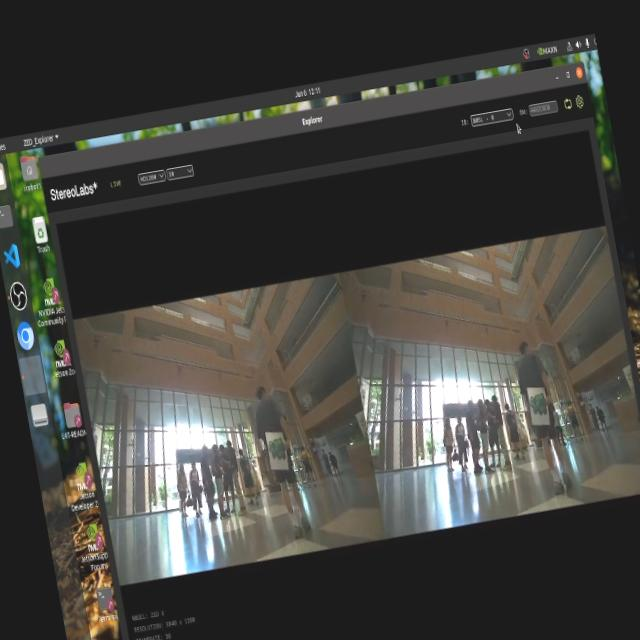green: (266, 431, 292, 466), (524, 388, 550, 416)
